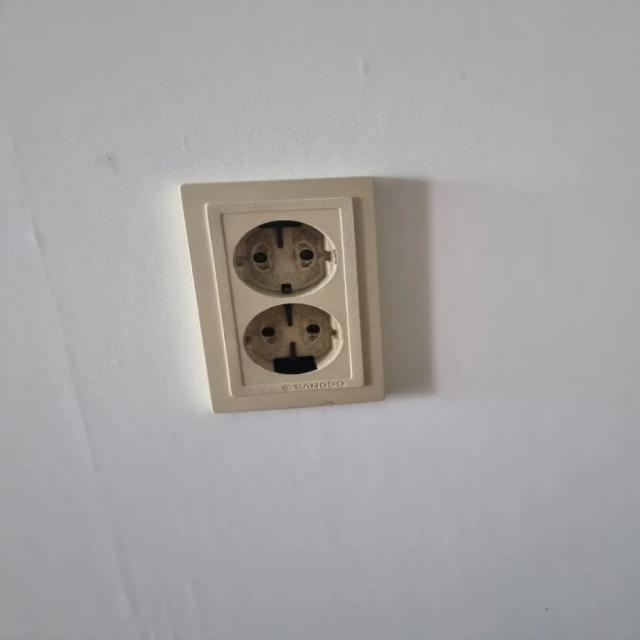typeb: (157, 176, 408, 422)
